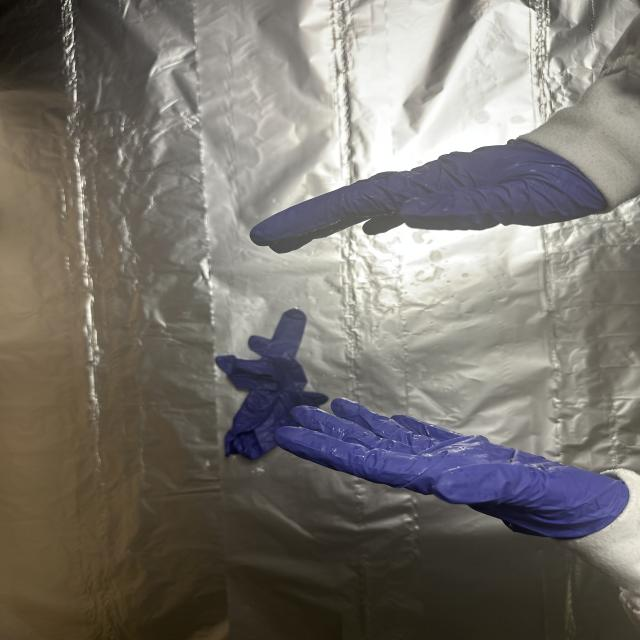gloves_contaminated: (276, 398, 629, 539), (250, 140, 608, 253)
